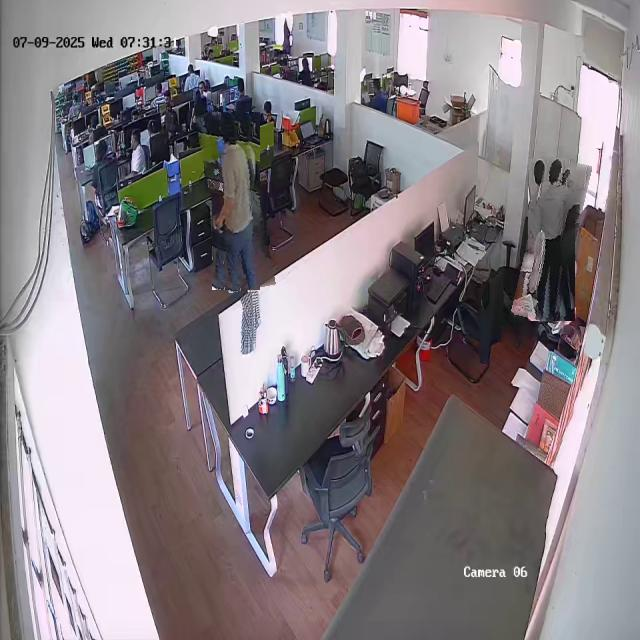person: (204, 111, 268, 292), (519, 158, 584, 322)
